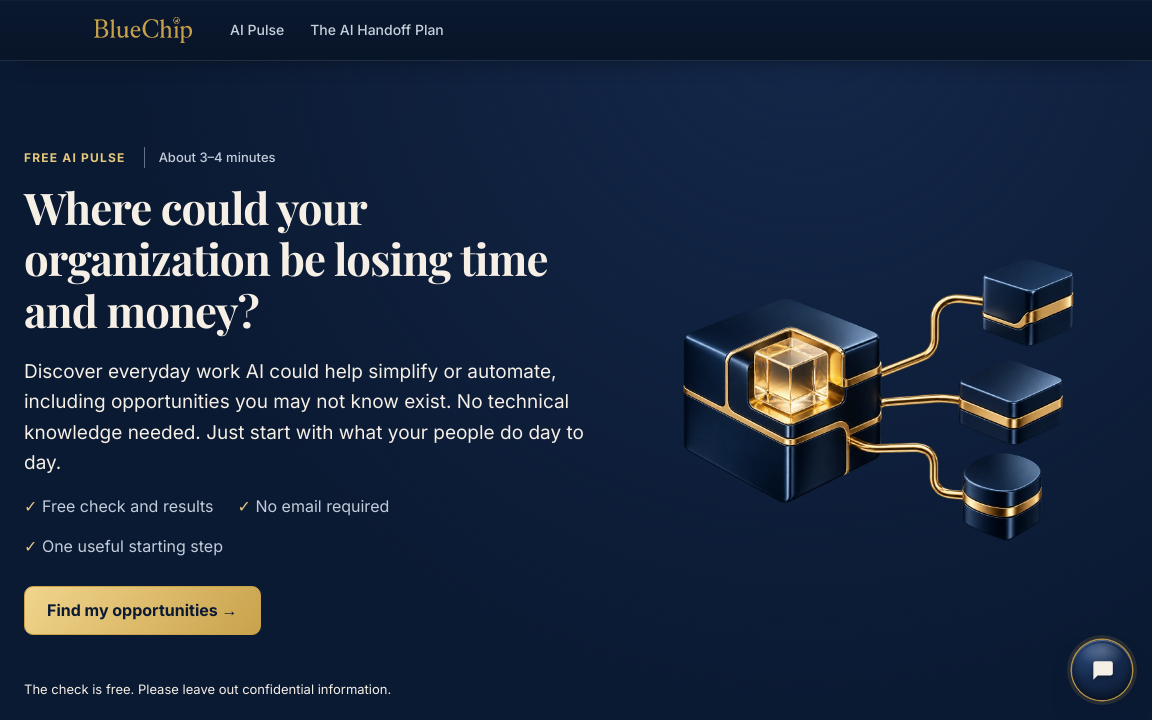
Test case: leads the paid next step with a conditional time-value example and preserves the findings-based refund
Click the button "Find my opportunities →" at (142, 610), box [24,586,260,635]
(page scrolled)
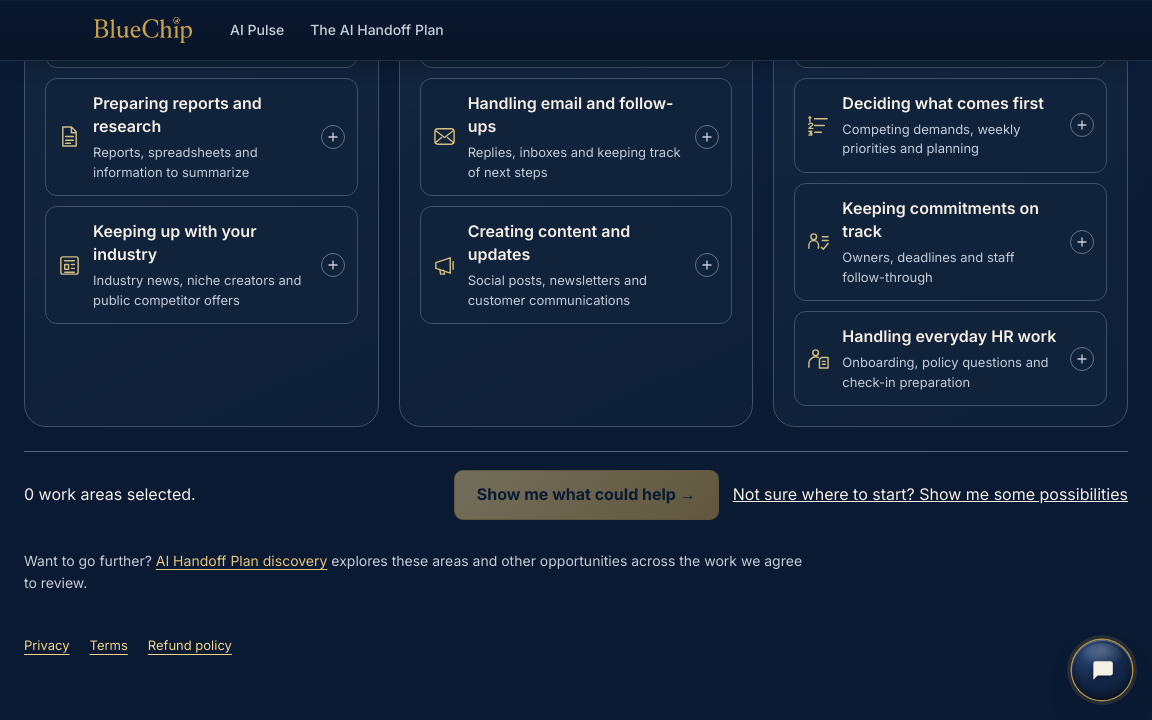
Click the button "Not sure where to start? Show me some possibilities" at (930, 495), box [733,472,1128,518]
(page scrolled)
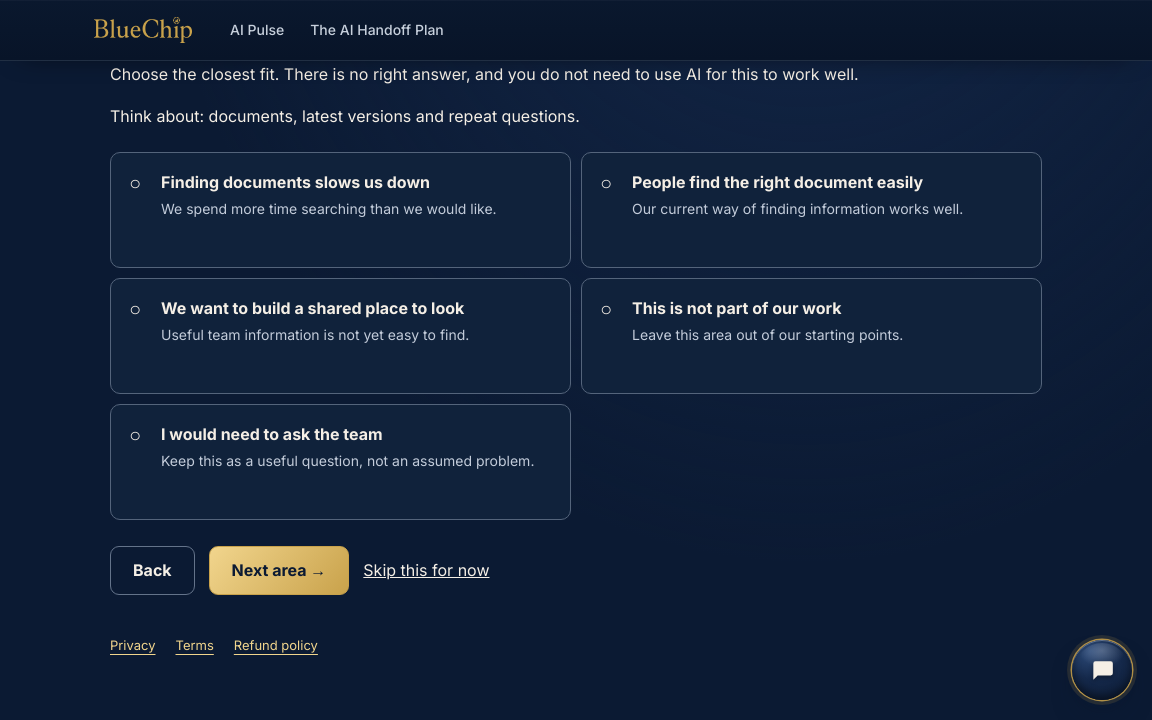
Click the button "Skip this for now" at (426, 570), box [363,548,490,593]
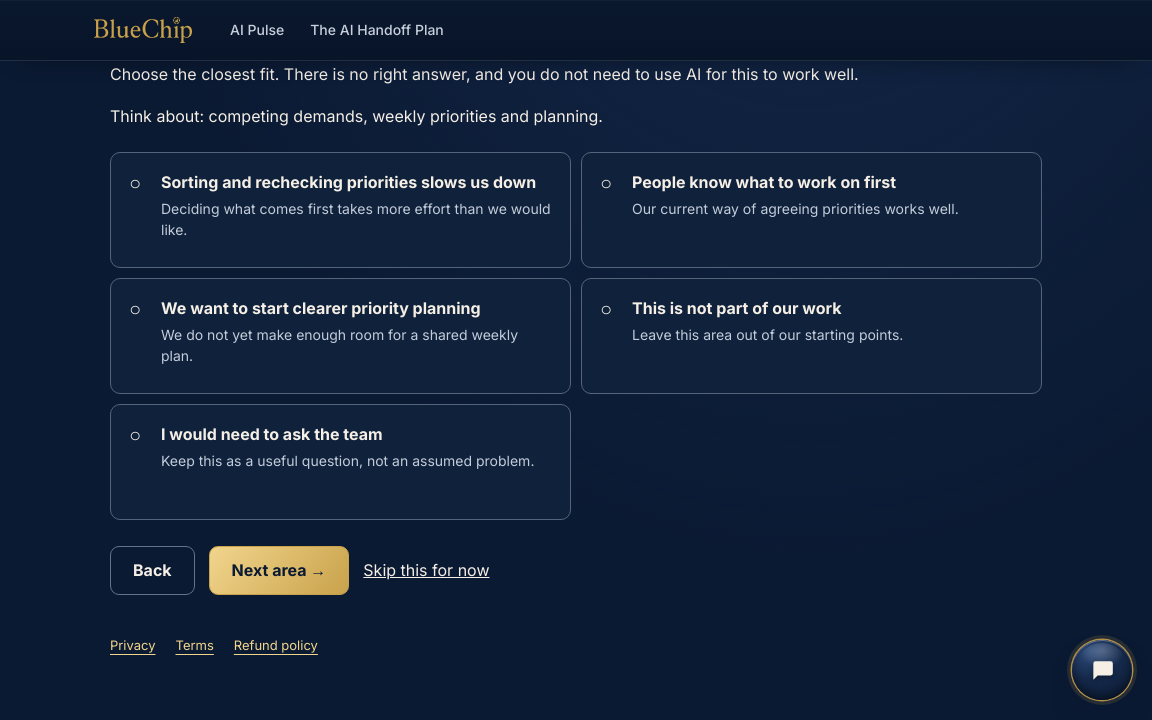
Click the button "Skip this for now" at (426, 570), box [363,548,490,593]
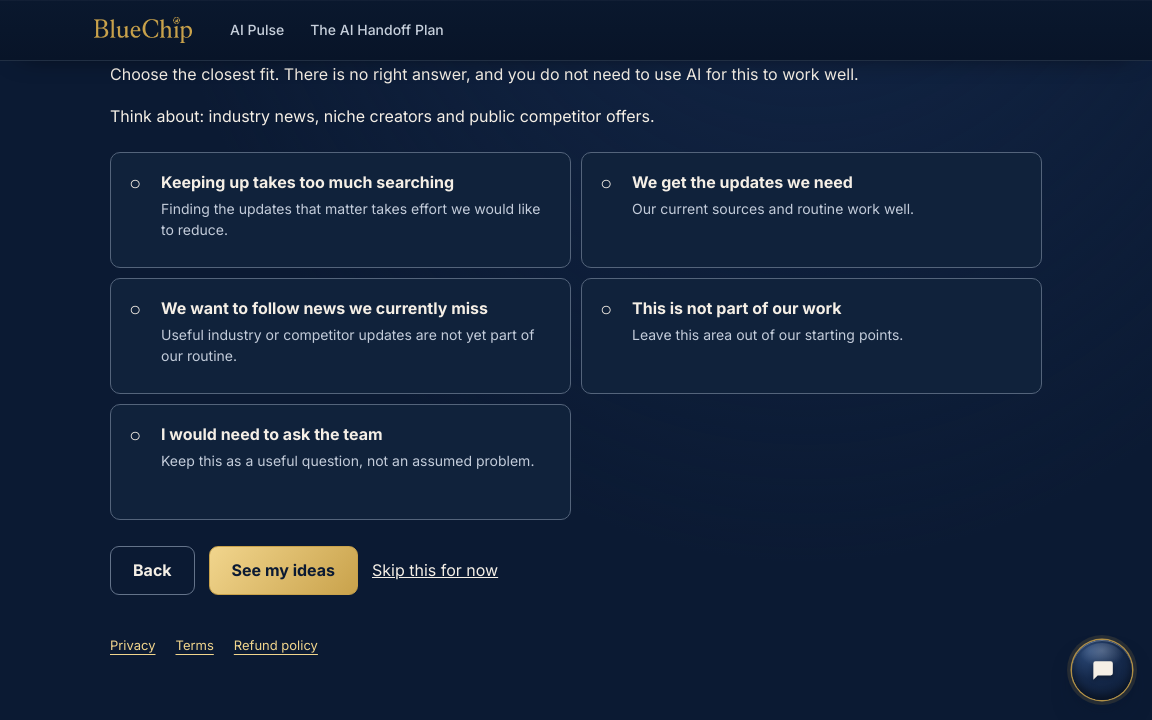
Click the button "Skip this for now" at (435, 570), box [372,548,498,593]
(page scrolled)
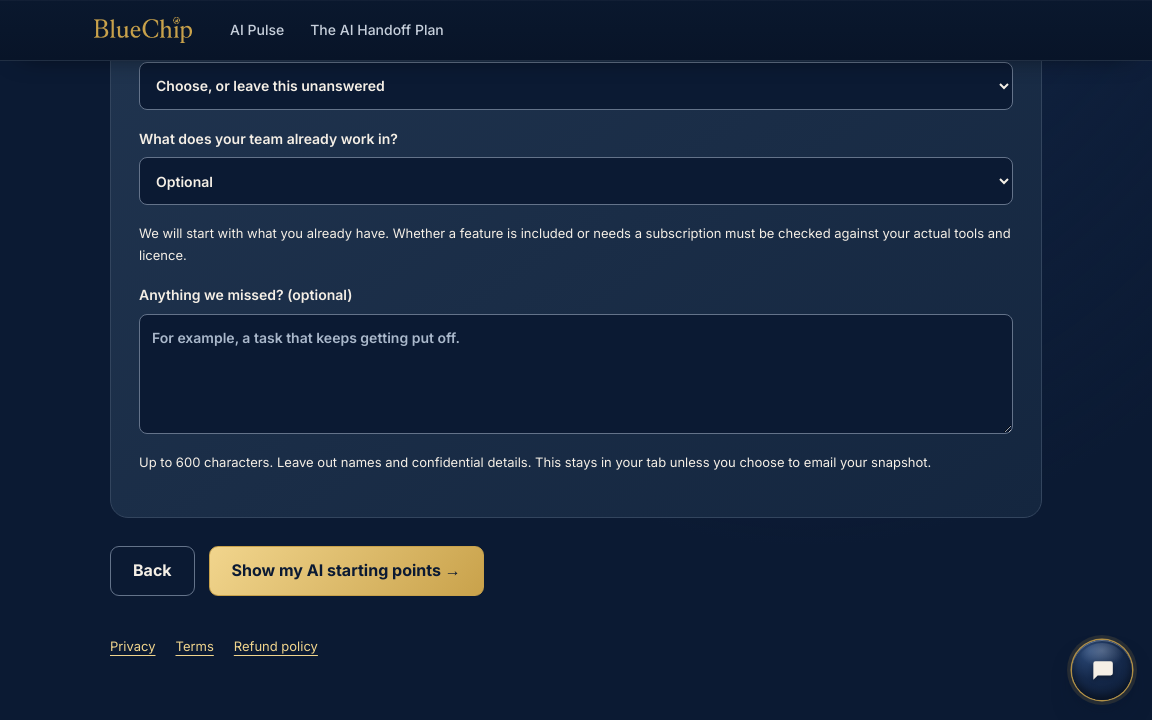
Click the button "Show my AI starting points →" at (346, 571), box [209,546,484,596]
(page scrolled)
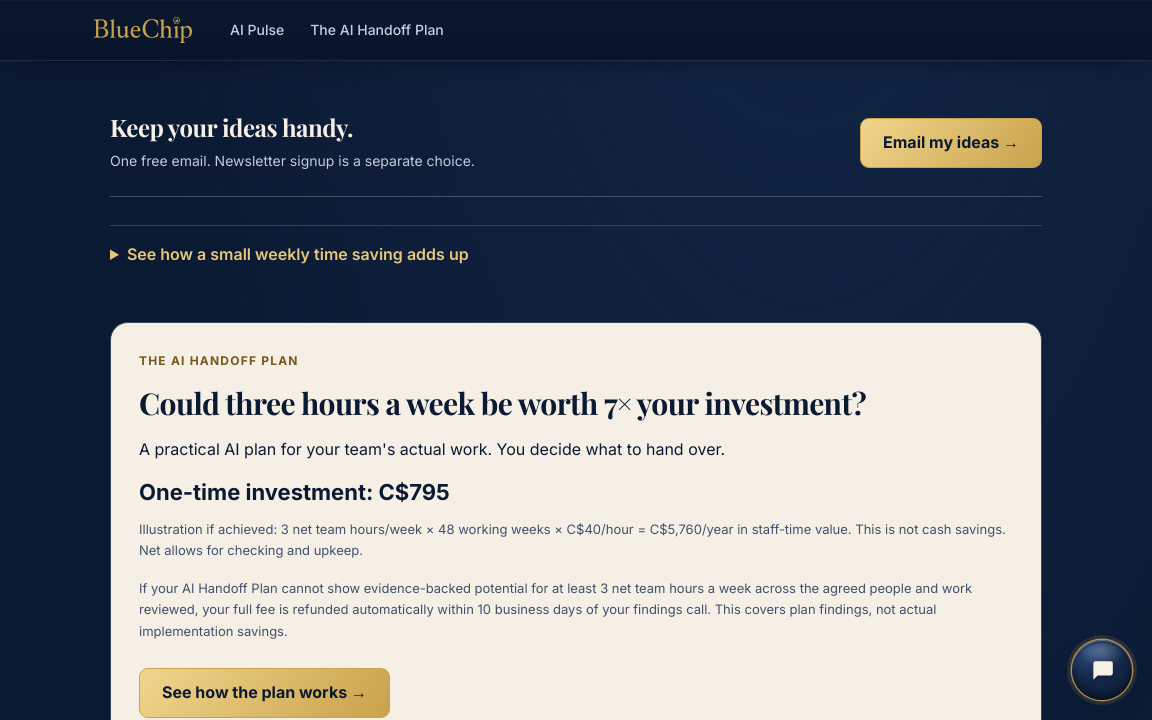
Now the heading "Could three hours a week be worth 7× your investment?" is shown, box [139,383,866,423]
Now the text "Illustration if achieved: 3 net team hours/week × 48 working weeks × C$40/hour = C$5,760/year" is shown, box [139,519,1013,562]
Now the element that starts with "The AI Handoff Plan" shows "This is not cash savings. Net allows for checking and upkeep.", box [139,521,1006,558]
